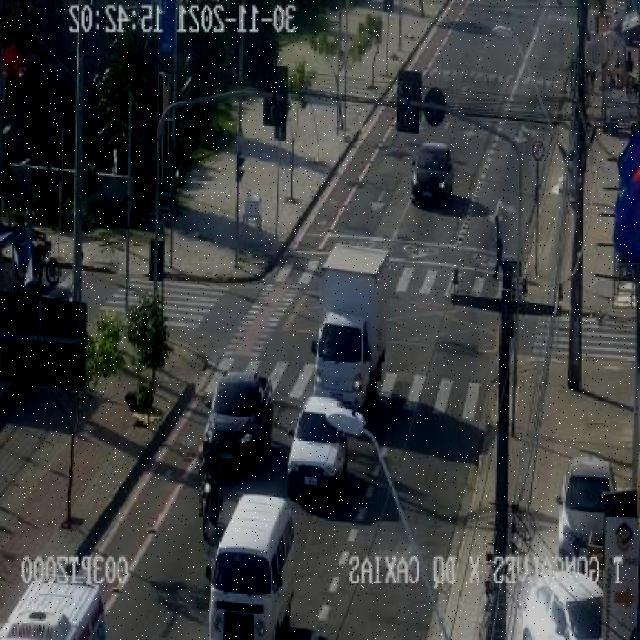car: (204, 372, 272, 471), (515, 572, 601, 640), (412, 142, 489, 217), (288, 399, 345, 497), (559, 456, 611, 556)
lorry: (312, 245, 388, 408)
minivan: (210, 495, 294, 639), (0, 582, 104, 640)
